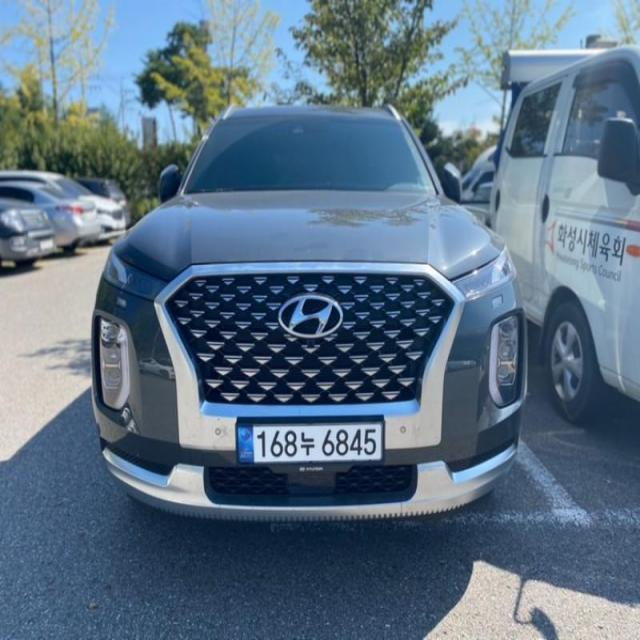car: (81, 83, 540, 541)
illegal_plate: (235, 418, 389, 469)
